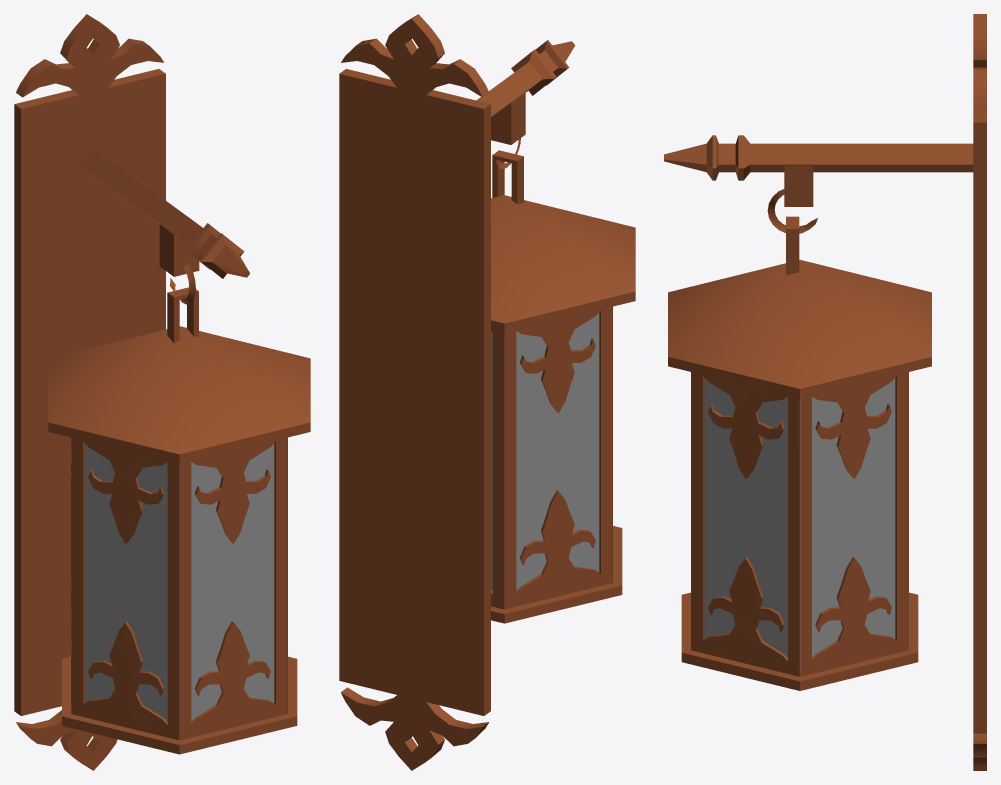
Rendered from deng3.FBX.
3 renders of one model, left to right at view 1: azimuth 30°, elevation 25°; view 2: azimuth 150°, elevation 25°; view 3: azimuth 270°, elevation 25°, orthographic.
Visible parts, largest first — view 1: Acc_Light002, 对象003; view 2: Acc_Light002, 对象003; view 3: Acc_Light002, 对象003.
Part boxes in pixels (x1,y1,x2,y2): Acc_Light002: (14,14,310,770); 对象003: (85,443,274,736); Acc_Light002: (339,14,635,770); 对象003: (491,312,599,605); Acc_Light002: (664,14,986,770); 对象003: (704,378,895,672).
Size of the model in its own units: 0.2917 by 0.7995 by 0.3089.
